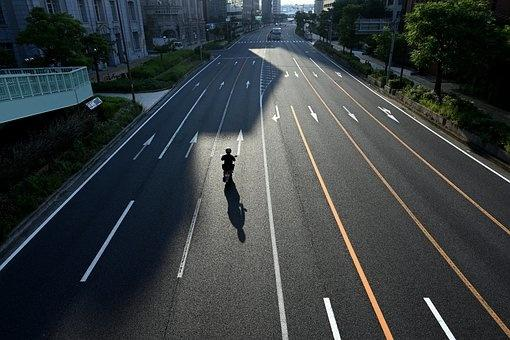road: (0, 27, 509, 338)
